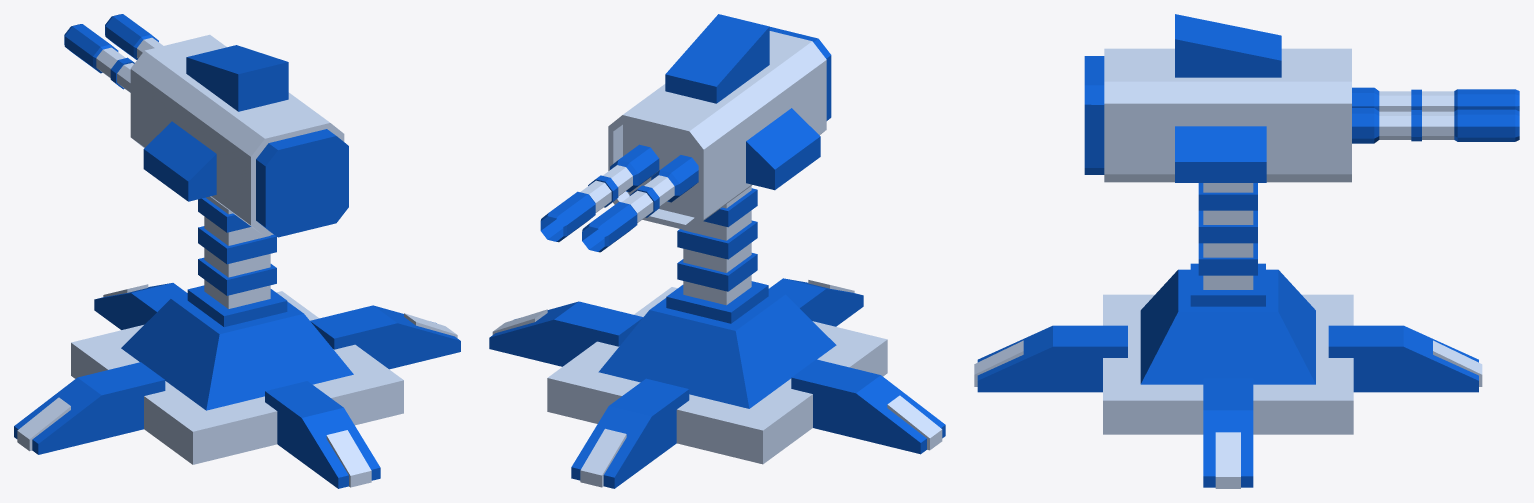
Rendered from Turret_2.fbx.
3 views of the same model, side by side, from view 1: azimuth 30°, elevation 25°; view 2: azimuth 150°, elevation 25°; view 3: azimuth 270°, elevation 25° (orthographic). The views are drawn at different scales.
Visible parts, largest first — view 1: TurretBase2, TurretHead2, TurretBarrel2Right, TurretBarrel2Left; view 2: TurretBase2, TurretHead2, TurretBarrel2Left, TurretBarrel2Right; view 3: TurretBase2, TurretHead2, TurretBarrel2Left, TurretBarrel2Right.
Part boxes in pixels (bbox=[...]): TurretBase2: bbox=[14, 196, 460, 488]; TurretHead2: bbox=[130, 34, 348, 237]; TurretBarrel2Right: bbox=[64, 24, 134, 92]; TurretBarrel2Left: bbox=[105, 14, 163, 59]; TurretBase2: bbox=[489, 186, 945, 488]; TurretHead2: bbox=[608, 14, 831, 231]; TurretBarrel2Left: bbox=[540, 144, 659, 242]; TurretBarrel2Right: bbox=[582, 155, 698, 252]; TurretBase2: bbox=[974, 183, 1482, 488]; TurretHead2: bbox=[1084, 14, 1351, 182]; TurretBarrel2Left: bbox=[1352, 108, 1519, 143]; TurretBarrel2Right: bbox=[1352, 87, 1519, 111].
Size of the model in its own units: 40.54 by 31.26 by 43.53.
1 material, 1 textured.
